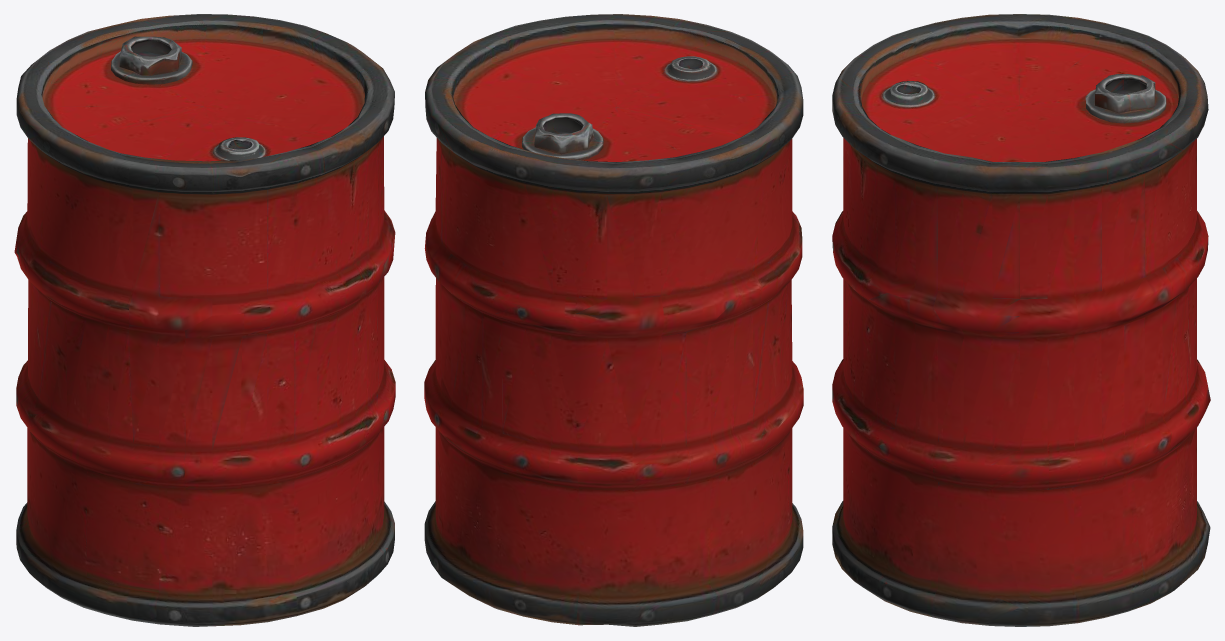
The model's file is barrel_red.glb.
3 views of the same model, side by side, from view 1: azimuth 30°, elevation 25°; view 2: azimuth 150°, elevation 25°; view 3: azimuth 270°, elevation 25° (orthographic).
Parts seen in each view (by area): view 1: barrel_red; view 2: barrel_red; view 3: barrel_red.
Boxes of the visible parts, x1,y1,x2,y2 form: barrel_red: (14, 14, 395, 626); barrel_red: (424, 14, 803, 626); barrel_red: (832, 14, 1210, 626).
Size of the model in its own units: 0.65 by 0.88 by 0.65.
1 material, 1 textured.
